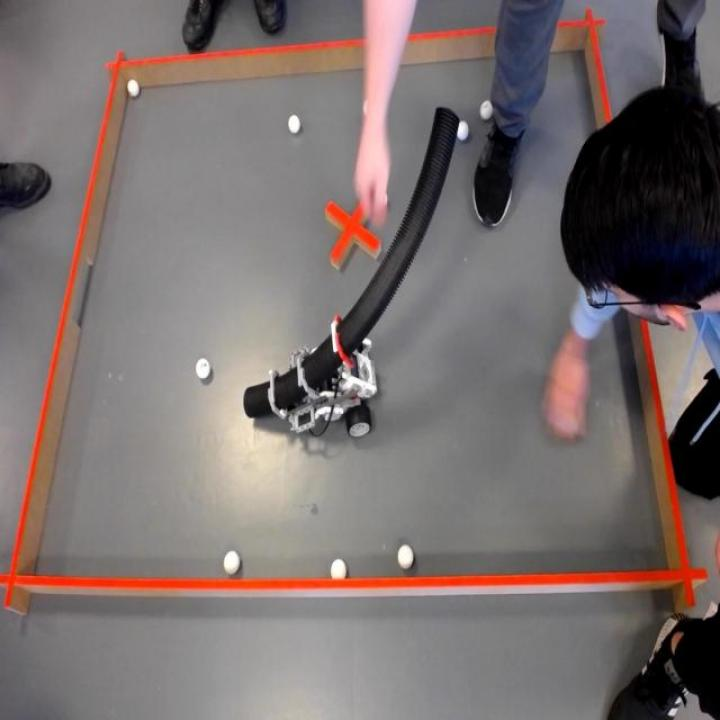robot: (238, 97, 463, 438)
white: (396, 539, 415, 571), (222, 548, 242, 576), (192, 356, 213, 381), (328, 556, 348, 582), (286, 111, 302, 137), (126, 78, 142, 101), (479, 100, 494, 122), (458, 119, 468, 139)
